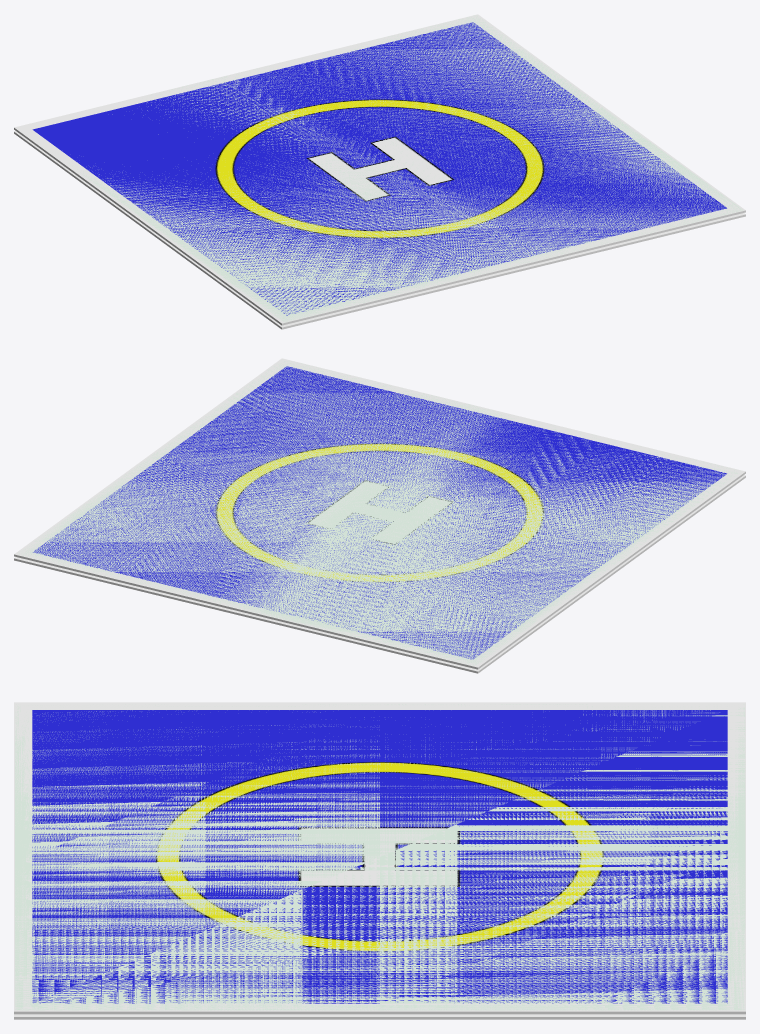
Rendered from Pad_Square_Generic.gltf.
3 views of the same model, one above another, from view 1: azimuth 30°, elevation 25°; view 2: azimuth 150°, elevation 25°; view 3: azimuth 270°, elevation 25° (orthographic). The views are drawn at different scales.
Visible parts, largest first — view 1: Pad_Square_Generic; view 2: Pad_Square_Generic; view 3: Pad_Square_Generic.
Part boxes in pixels (x1,y1,x2,y2): Pad_Square_Generic: (14, 14, 745, 329); Pad_Square_Generic: (14, 358, 745, 673); Pad_Square_Generic: (14, 702, 745, 1019).
Size of the model in its own units: 16 by 0.2 by 16.
